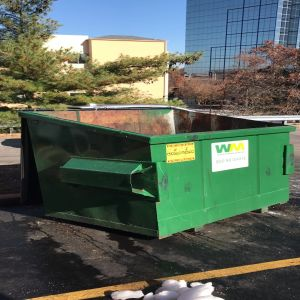Dumpster: (15, 107, 300, 242)
